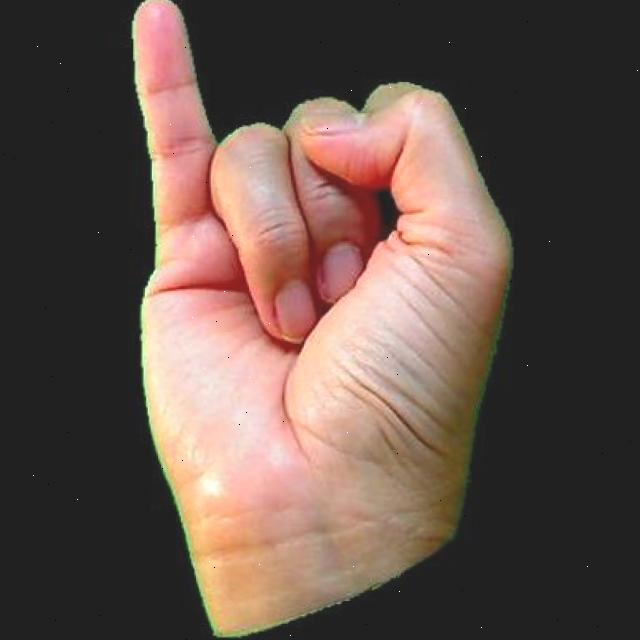i: (94, 0, 516, 640)
